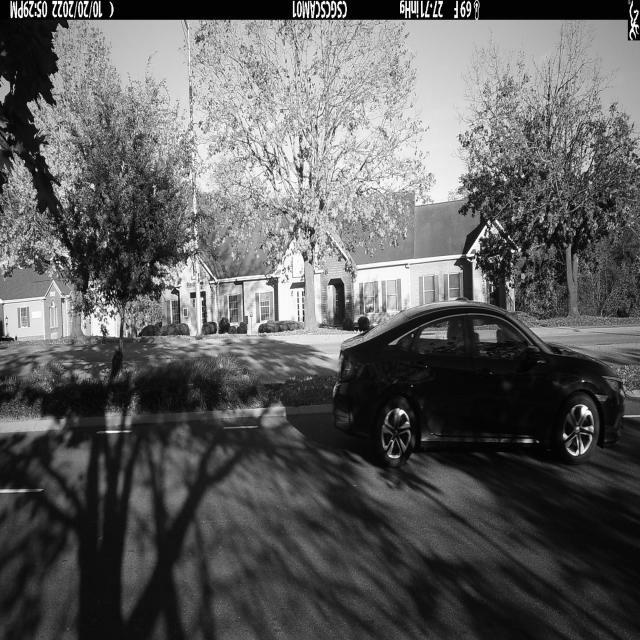Sedan: (331, 303, 626, 467)
